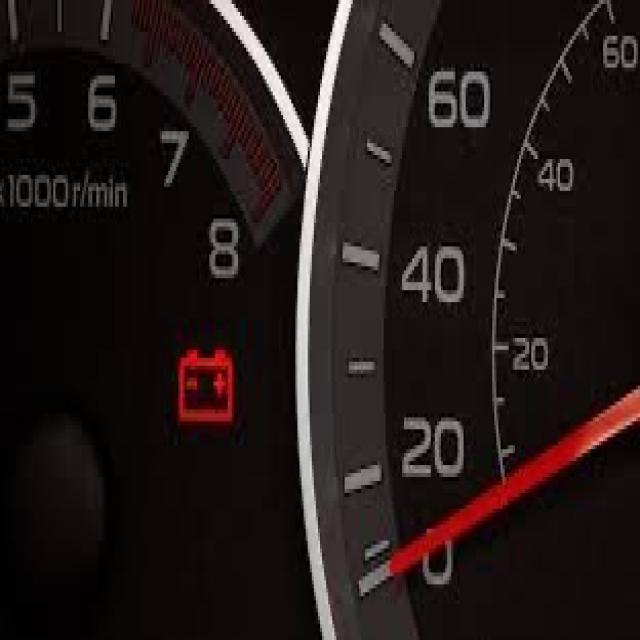kontrolka: (168, 334, 244, 446)
